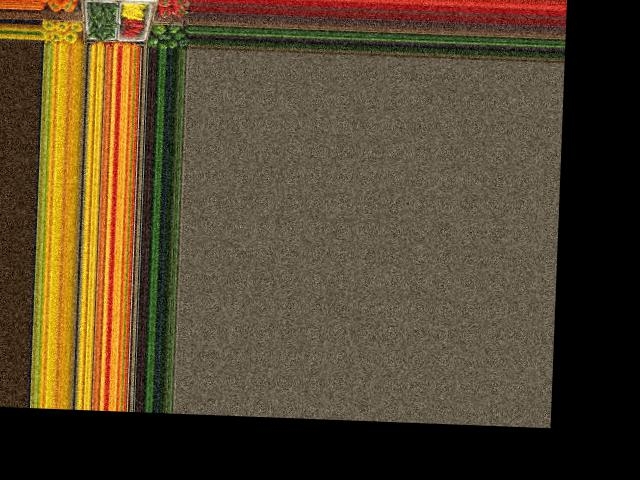bell_pepper: (166, 22, 181, 38)
